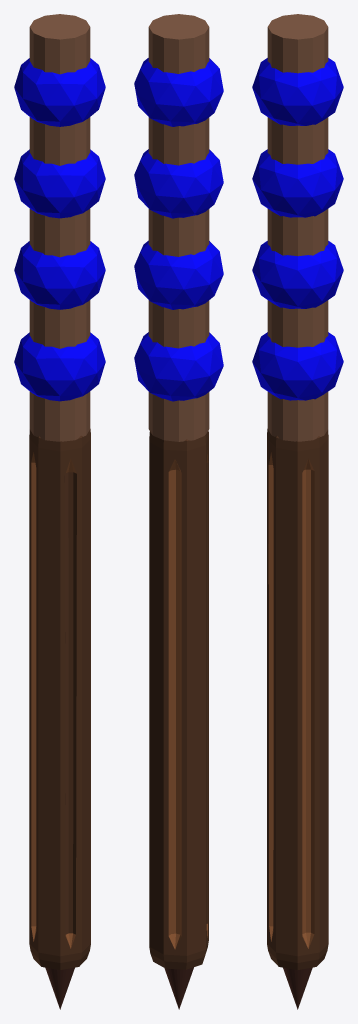
File: Wand 532.glb
3 renders of one model, left to right at view 1: azimuth 90°, elevation 25°; view 2: azimuth 150°, elevation 25°; view 3: azimuth 270°, elevation 25°, orthographic.
Parts seen in each view (by area): view 1: GeneratedWand; view 2: GeneratedWand; view 3: GeneratedWand.
Part boxes in pixels (x1,y1,x2,y2): GeneratedWand: [14, 14, 105, 1009]; GeneratedWand: [134, 14, 223, 1009]; GeneratedWand: [252, 14, 343, 1009].
Size of the model in its own units: 0.0407 by 0.5071 by 0.0428.
